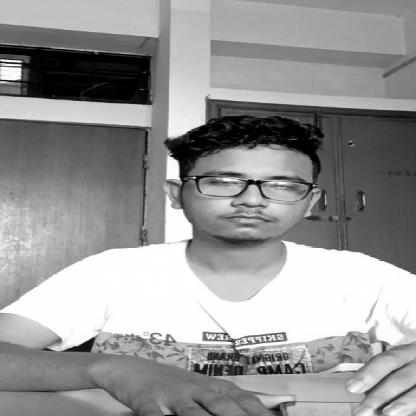Normal: (180, 116, 322, 243)
